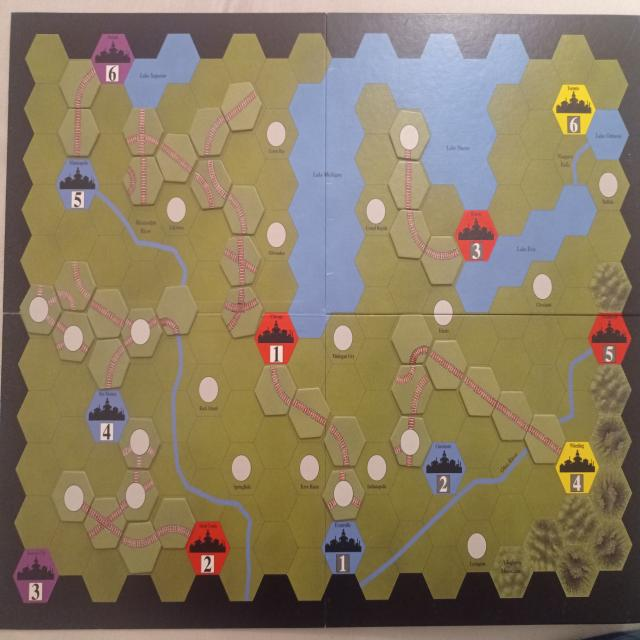10_0: (121, 308, 162, 358)
10_1: (392, 417, 431, 467)
11_0: (323, 470, 364, 520)
12_1: (119, 418, 160, 468)
12_3: (20, 285, 60, 333)
13_2: (389, 111, 431, 159)
13_3: (54, 472, 92, 524)
14_1: (117, 470, 158, 520)
14_3: (53, 311, 93, 361)
15_1: (55, 260, 95, 311)
1_0: (156, 285, 197, 334)
1_1: (392, 314, 431, 363)
24_0: (124, 59, 167, 108)
2_0: (155, 498, 196, 548)
2_1: (89, 340, 129, 389), (62, 60, 100, 108), (191, 107, 227, 156)
2_2: (255, 366, 296, 416), (391, 210, 431, 258)
2_3: (119, 523, 160, 572), (422, 237, 463, 284)
2_5: (325, 417, 364, 466), (224, 186, 264, 233)
3_0: (223, 82, 261, 130)
3_1: (59, 108, 99, 156), (389, 162, 428, 208)
3_2: (290, 387, 330, 437), (493, 392, 533, 441), (526, 414, 565, 464), (460, 368, 500, 416), (426, 341, 466, 388), (89, 290, 128, 338), (157, 135, 196, 182)
4_5: (124, 157, 164, 206)
5_4: (392, 364, 432, 415)
6_2: (191, 160, 230, 208)
7_4: (222, 288, 261, 336)
8_1: (125, 109, 162, 158)
9_0: (85, 499, 126, 548)
9_2: (223, 239, 259, 285)
